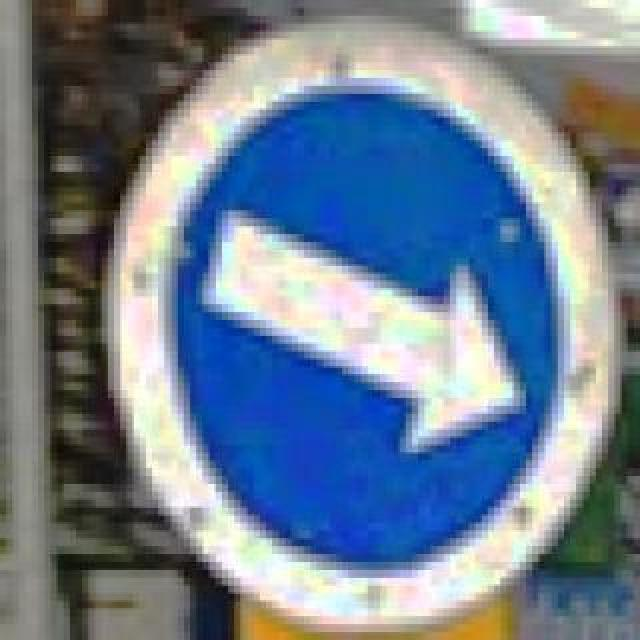keep right: (88, 8, 608, 632)
